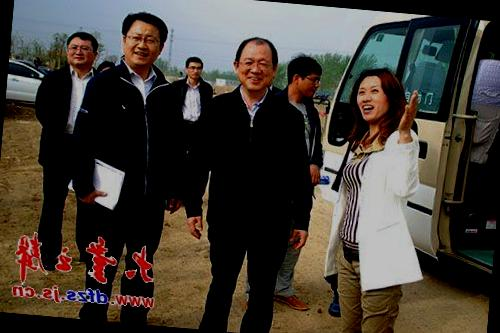no_helmet: (350, 68, 406, 135), (228, 32, 284, 97), (115, 8, 170, 74), (283, 52, 323, 104), (62, 26, 103, 74), (180, 53, 207, 84)
